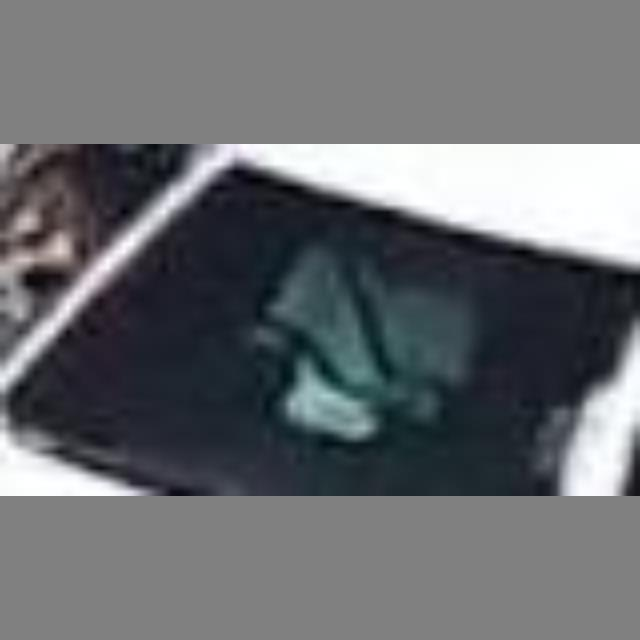pakai: (288, 240, 472, 416)
